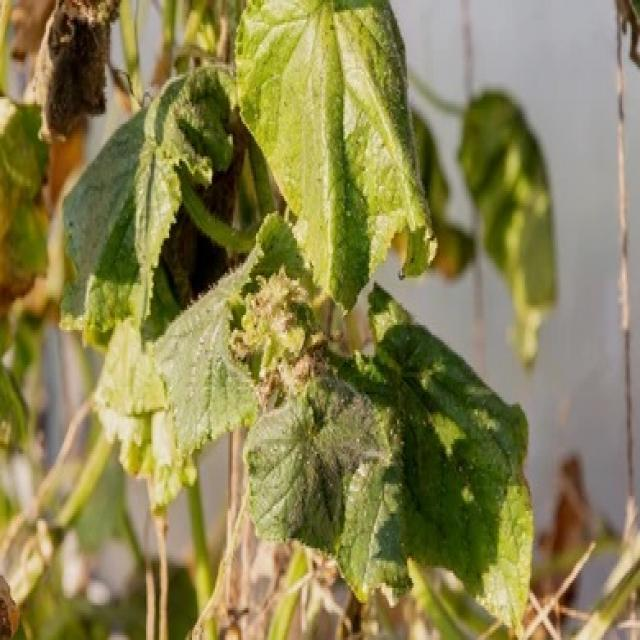Aphids: (279, 390, 409, 567), (152, 92, 251, 301), (20, 0, 123, 156), (235, 271, 324, 385), (330, 190, 438, 282), (1, 202, 40, 346)
